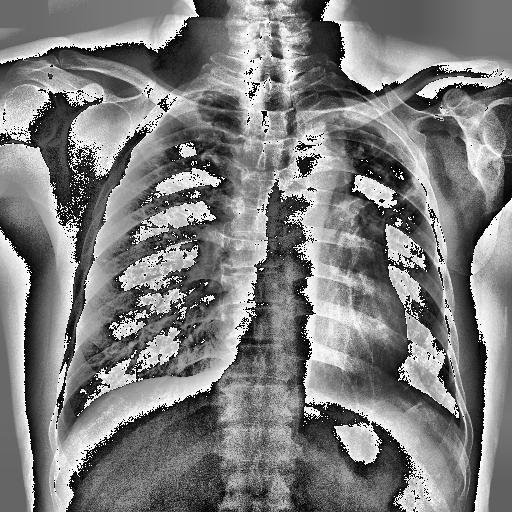1- Atelectasis: (322, 114, 428, 250), (324, 118, 424, 234)
11- Pleural thickening: (100, 87, 220, 188), (292, 87, 402, 141), (314, 90, 410, 148), (306, 86, 396, 140), (442, 402, 468, 471)
13- Pulmonary fibrosis: (322, 114, 428, 250), (324, 118, 424, 234), (340, 150, 430, 228), (114, 136, 196, 195), (126, 134, 200, 191), (144, 130, 184, 160), (116, 176, 148, 200)
9- Other lesion: (46, 72, 54, 80)
